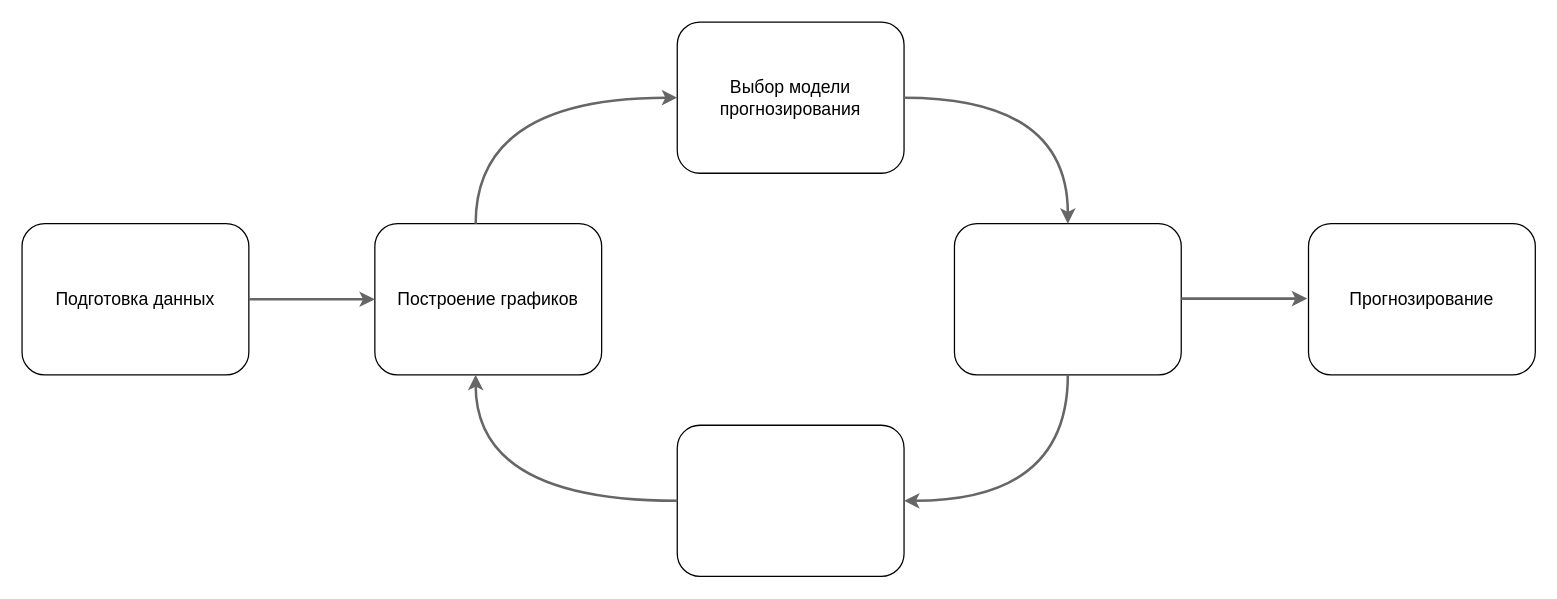
The diagram is 1557 pixels wide and 599 high, and some of its shapes have lost their labels. The shapes that lost their labels are listed below. From the top down, each one's box as (x1, y1, x2, y2) in pixels, then its label:
(953, 222, 1181, 375): Обучение модели
(676, 424, 904, 576): Валидация полученных оценок
